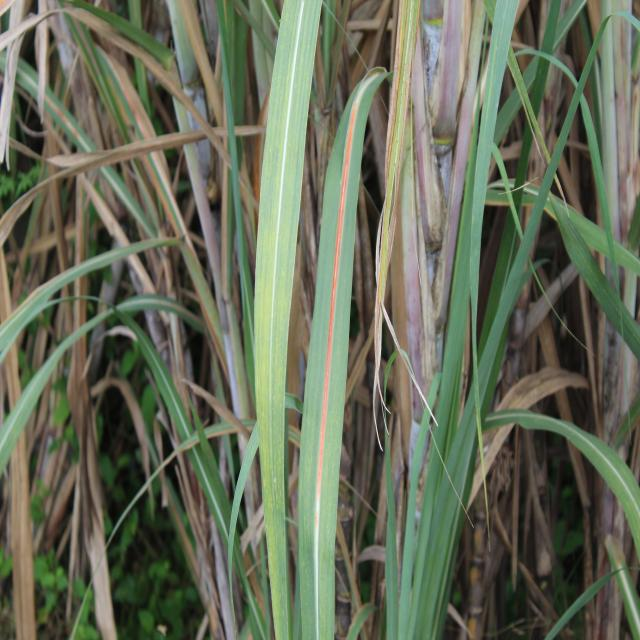Sugarcane: (431, 0, 637, 634), (298, 69, 392, 638), (253, 2, 318, 640), (454, 4, 525, 476), (2, 235, 202, 401), (88, 33, 188, 271), (480, 407, 640, 554), (1, 316, 114, 524), (209, 1, 260, 424), (172, 398, 252, 634), (544, 195, 638, 388), (494, 1, 580, 163), (393, 373, 441, 636), (54, 7, 140, 150), (167, 233, 239, 398), (0, 49, 92, 157), (537, 554, 637, 640), (167, 2, 223, 128), (15, 163, 65, 294), (446, 2, 486, 165), (220, 2, 279, 67), (125, 0, 154, 121)
